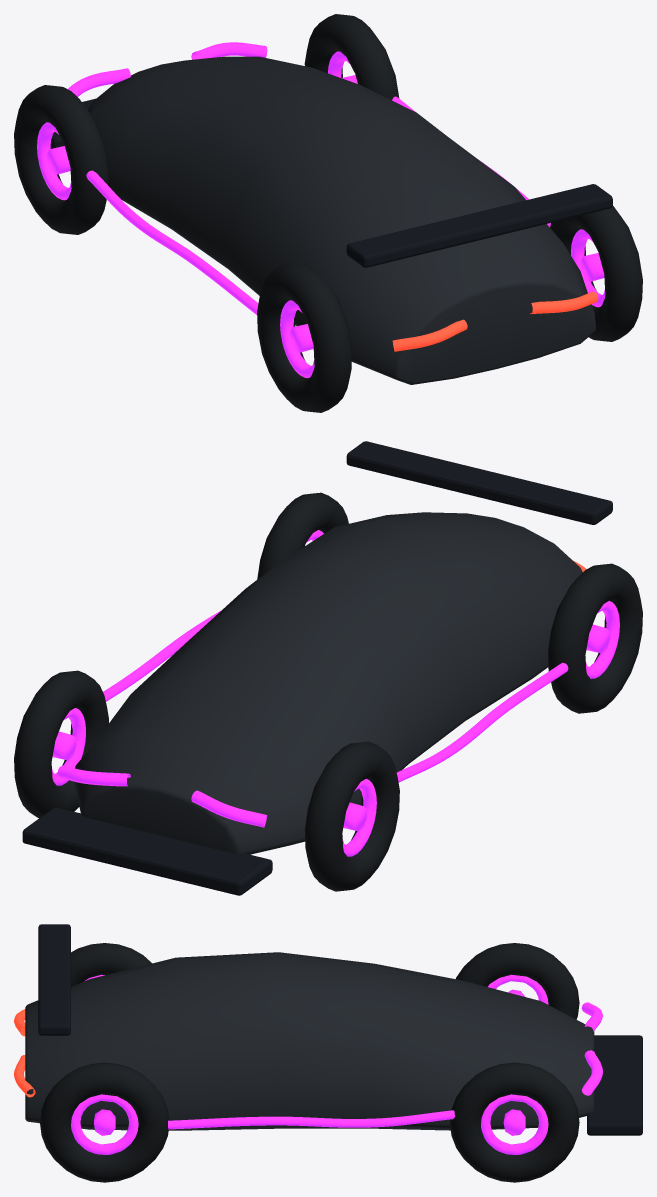
File: Rival03_Prototype_LOD0_Inspection.glb
3 views of the same model, one above another, from view 1: azimuth 30°, elevation 25°; view 2: azimuth 150°, elevation 25°; view 3: azimuth 270°, elevation 25° (orthographic). The views are drawn at different scales.
Visible parts, largest first — view 1: Rival03_Prototype_Body_LOD0, Rival03_Prototype_Wheel_RL_LOD0, Rival03_Prototype_Wheel_FL_LOD0, Rival03_Prototype_Wheel_RR_LOD0, Rival03_Prototype_Wheel_FR_LOD0; view 2: Rival03_Prototype_Body_LOD0, Rival03_Prototype_Wheel_FL_LOD0, Rival03_Prototype_Wheel_RL_LOD0, Rival03_Prototype_Wheel_FR_LOD0, Rival03_Prototype_Wheel_RR_LOD0; view 3: Rival03_Prototype_Body_LOD0, Rival03_Prototype_Wheel_RR_LOD0, Rival03_Prototype_Wheel_FR_LOD0, Rival03_Prototype_Wheel_FL_LOD0, Rival03_Prototype_Wheel_RL_LOD0.
Part boxes in pixels (box(x1,y1,x2,y2)): Rival03_Prototype_Body_LOD0: box(51, 42, 612, 384); Rival03_Prototype_Wheel_RL_LOD0: box(257, 263, 352, 412); Rival03_Prototype_Wheel_FL_LOD0: box(14, 85, 108, 234); Rival03_Prototype_Wheel_RR_LOD0: box(550, 206, 642, 341); Rival03_Prototype_Wheel_FR_LOD0: box(304, 14, 399, 100); Rival03_Prototype_Body_LOD0: box(22, 441, 612, 895); Rival03_Prototype_Wheel_FL_LOD0: box(304, 741, 399, 891); Rival03_Prototype_Wheel_RL_LOD0: box(548, 563, 642, 713); Rival03_Prototype_Wheel_FR_LOD0: box(14, 670, 108, 817); Rival03_Prototype_Wheel_RR_LOD0: box(257, 492, 348, 579); Rival03_Prototype_Body_LOD0: box(14, 924, 642, 1135); Rival03_Prototype_Wheel_RR_LOD0: box(40, 1062, 169, 1182); Rival03_Prototype_Wheel_FR_LOD0: box(450, 1062, 579, 1182); Rival03_Prototype_Wheel_FL_LOD0: box(456, 943, 579, 1019); Rival03_Prototype_Wheel_RL_LOD0: box(71, 943, 151, 986).
Bounding box in the file's own units: 2.13 × 1.18 × 4.27.
